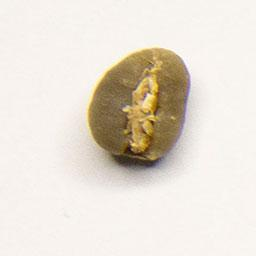peaberry: (85, 44, 195, 164)
